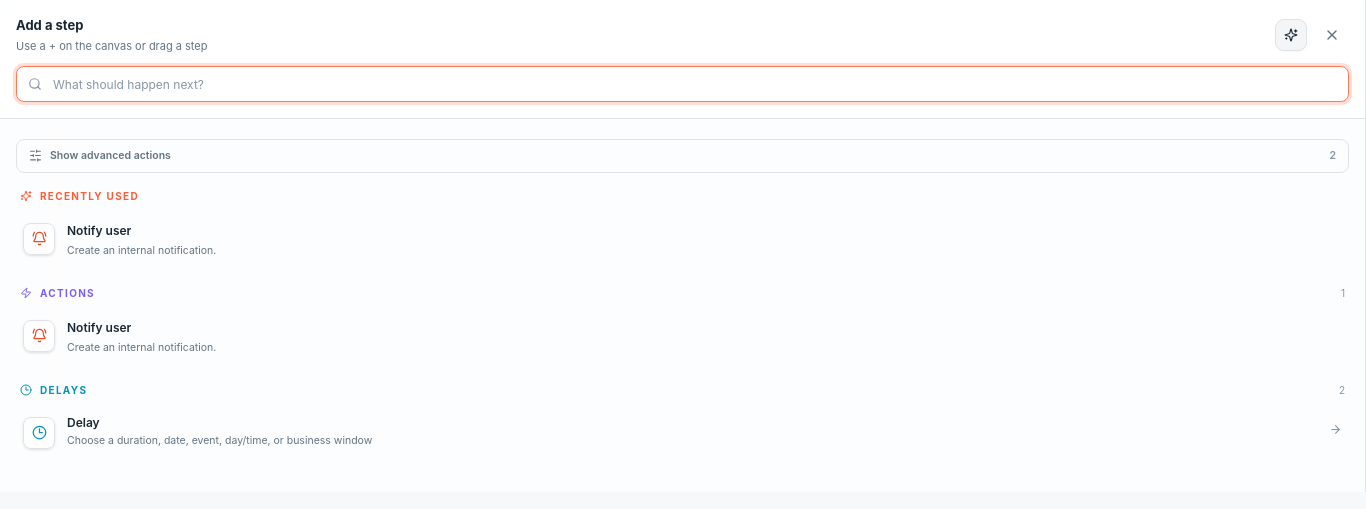
Test case: NodeCatalog UI states › opens one Delay entry before showing the subtype choices
Check: the button "Until event occurs" is not shown
What coordinates should you click on to do the following:
click the button "Delay"
I would click on:
 (39, 433)
Its box is x1=12 y1=404 x2=1353 y2=460.
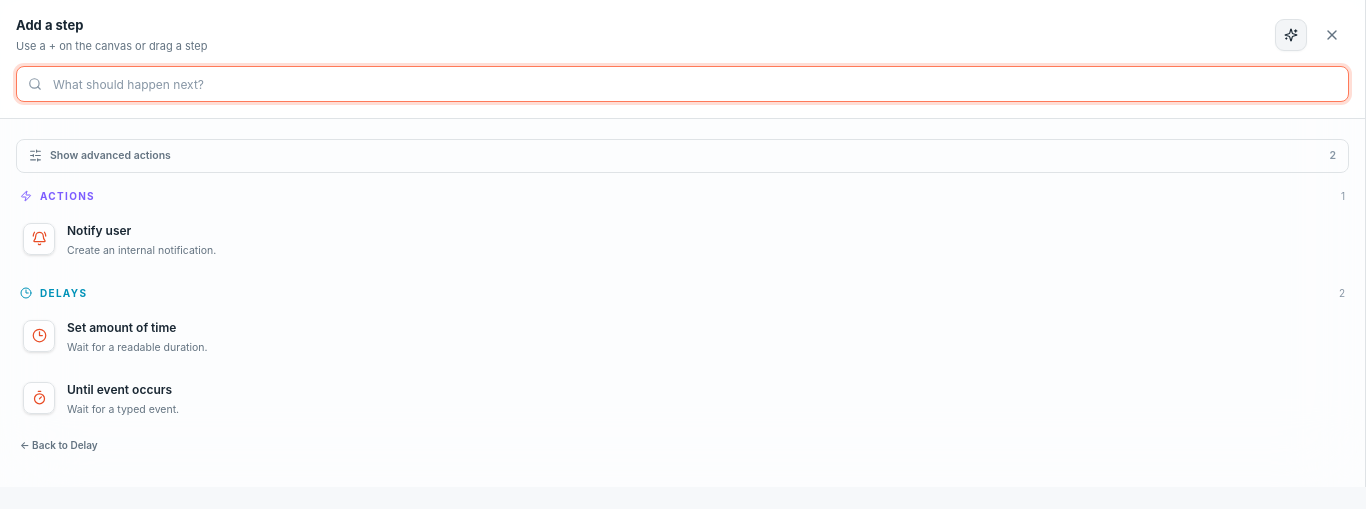
Check: the button "Set amount of time Wait for a readable duration." is shown, box x1=12 y1=307 x2=1353 y2=367
Check: the button "Until event occurs Wait for a typed event." is shown, box x1=12 y1=369 x2=1353 y2=429
